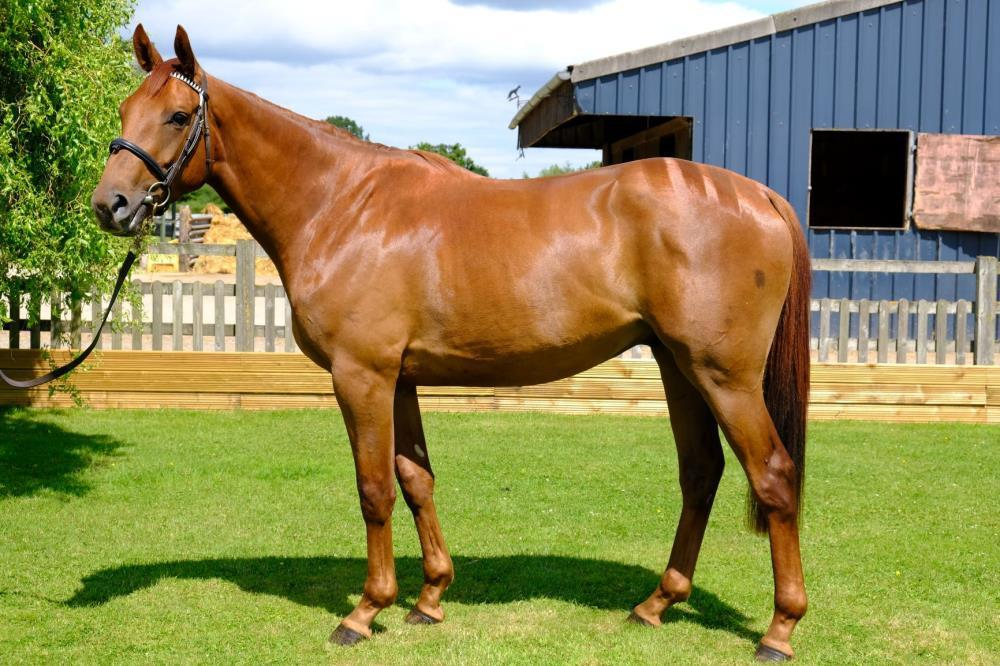horse: (84, 17, 822, 666)
